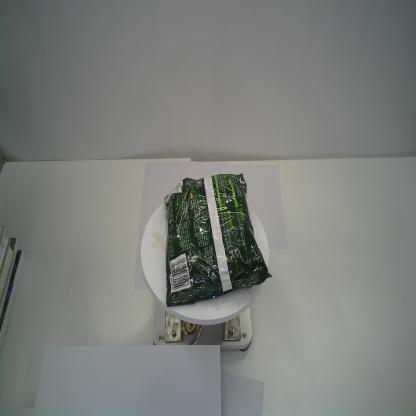Instant Noodles: (163, 172, 272, 309)
